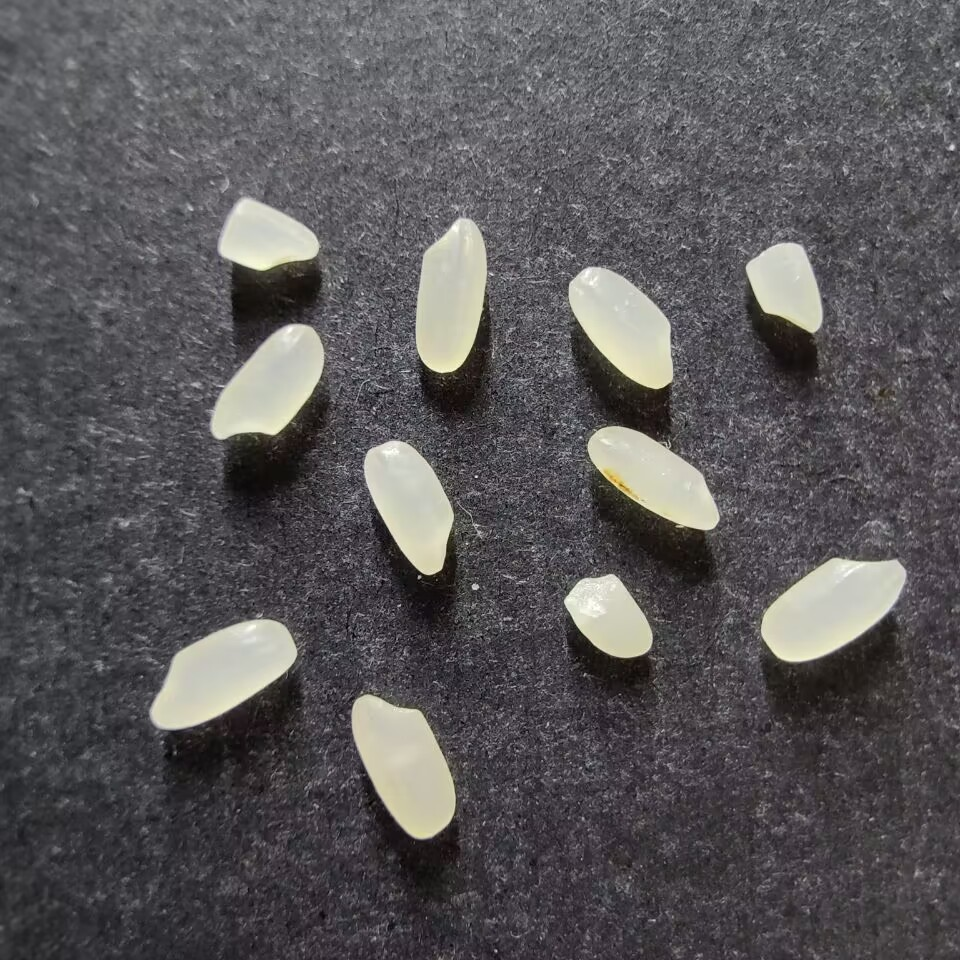broken: (563, 573, 653, 658), (217, 197, 320, 271), (745, 242, 822, 335)
rice: (148, 618, 297, 731), (760, 557, 908, 662), (350, 694, 456, 840), (586, 425, 720, 530), (209, 323, 323, 440), (567, 266, 673, 390), (363, 440, 454, 575), (414, 217, 485, 373)
